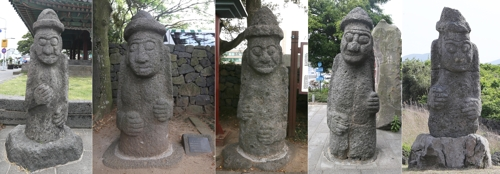Stone Statue: (400, 0, 495, 172), (101, 6, 185, 170), (3, 6, 82, 173), (226, 0, 297, 173), (320, 4, 389, 168)
